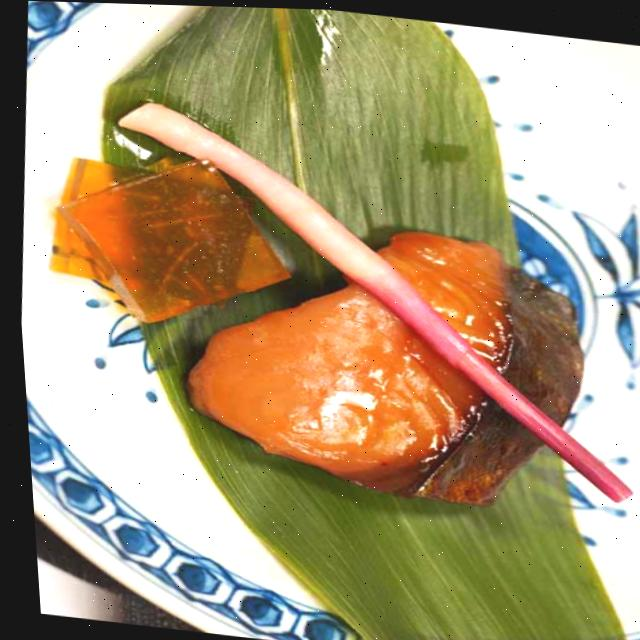熟制海鲜: (153, 172, 620, 543)
